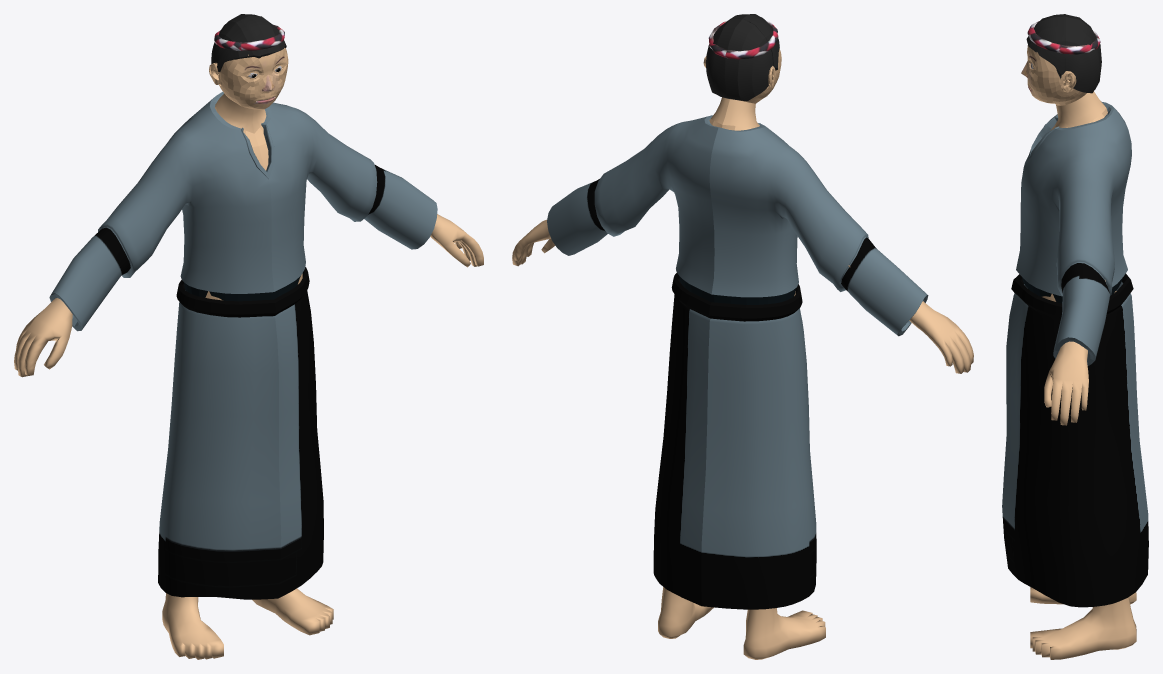
The model's file is aboriginal.fbx.
The picture shows the model from 3 angles, left to right: view 1: azimuth 30°, elevation 25°; view 2: azimuth 150°, elevation 25°; view 3: azimuth 270°, elevation 25°; orthographic projection.
Parts seen in each view (by area): view 1: polySurface5, _ear_v1:_ear_v5, pSphere8, pTorus3; view 2: polySurface5, _ear_v1:_ear_v5, pSphere9, pTorus3; view 3: polySurface5, _ear_v1:_ear_v5, pSphere9, pSphere8, pTorus3.
Boxes of the visible parts, <box> form: polySurface5: <box>49,91,437,599</box>; _ear_v1:_ear_v5: <box>14,48,483,659</box>; pSphere8: <box>217,16,286,71</box>; pTorus3: <box>214,24,284,50</box>; polySurface5: <box>547,115,928,609</box>; _ear_v1:_ear_v5: <box>512,49,973,659</box>; pSphere9: <box>706,18,773,100</box>; pTorus3: <box>708,20,778,59</box>; polySurface5: <box>1002,101,1148,607</box>; _ear_v1:_ear_v5: <box>1021,45,1136,659</box>; pSphere9: <box>1065,14,1101,93</box>; pSphere8: <box>1026,14,1065,78</box>; pTorus3: <box>1027,21,1100,54</box>.
Size of the model in its own units: 23.04 by 29.65 by 6.49.
